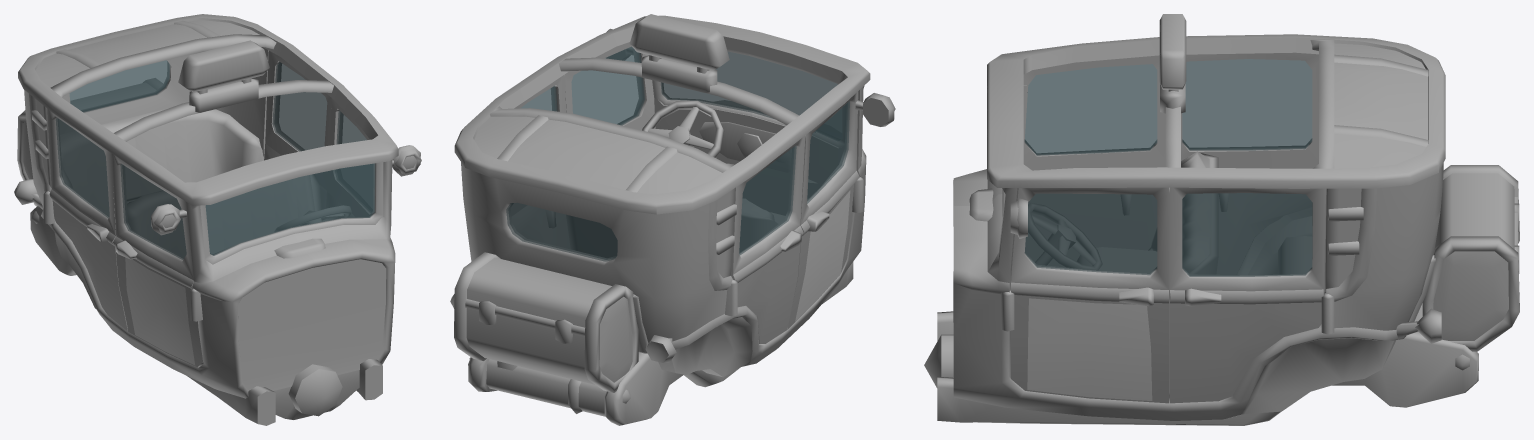
File: Body_Citro_SunRoof.fbx
3 renders of one model, left to right at view 1: azimuth 30°, elevation 25°; view 2: azimuth 150°, elevation 25°; view 3: azimuth 270°, elevation 25°, orthographic. The views are drawn at different scales.
Visible parts, largest first — view 1: Body_Citro_SunRoof_Mesh, Body_Citro_SunRoof_Window_Mesh, Citro_Door_Right_Back_Mesh, Citro_Door_Right_Mesh, Top_Taxi_Sign_Mesh, Citro_Door_Right_Decal_Mesh, Citro_Door_Right_Back_Window_Mesh, Citro_Door_Left_Back_Window_Mesh, Citro_Door_Right_Window_Mesh, Citro_Door_Left_Back_Mesh, Citro_Door_Left_Mesh, Box_Rear_Dark_Mesh (+2 smaller); view 2: Body_Citro_SunRoof_Mesh, Box_Rear_Dark_Mesh, Body_Citro_SunRoof_Window_Mesh, Citro_Door_Right_Back_Mesh, Top_Taxi_Sign_Mesh, Citro_Door_Right_Mesh, Citro_Door_Right_Back_Window_Mesh, Citro_Door_Left_Window_Mesh, Citro_Door_Right_Decal_Mesh, Citro_Door_Right_Window_Mesh, Citro_Door_Left_Back_Mesh, Body_SteerWheel_Mesh (+2 smaller); view 3: Body_Citro_SunRoof_Mesh, Citro_Door_Left_Back_Mesh, Box_Rear_Dark_Mesh, Citro_Door_Left_Mesh, Citro_Door_Left_Decal_Mesh, Citro_Door_Right_Back_Window_Mesh, Citro_Door_Right_Window_Mesh, Citro_Door_Left_Back_Window_Mesh, Citro_Door_Left_Window_Mesh, Citro_Door_Right_Mesh, Citro_Door_Right_Back_Mesh, Body_SteerWheel_Mesh (+1 smaller).
Boxes of the visible parts, x1=… form: Body_Citro_SunRoof_Mesh: x1=14, y1=14, x2=398, y2=425; Body_Citro_SunRoof_Window_Mesh: x1=69, y1=60, x2=375, y2=255; Citro_Door_Right_Back_Mesh: x1=47, y1=108, x2=127, y2=331; Citro_Door_Right_Mesh: x1=111, y1=153, x2=203, y2=367; Top_Taxi_Sign_Mesh: x1=178, y1=40, x2=269, y2=112; Citro_Door_Right_Decal_Mesh: x1=125, y1=257, x2=195, y2=365; Citro_Door_Right_Back_Window_Mesh: x1=56, y1=118, x2=109, y2=218; Citro_Door_Left_Back_Window_Mesh: x1=272, y1=62, x2=327, y2=151; Citro_Door_Right_Window_Mesh: x1=120, y1=164, x2=186, y2=259; Citro_Door_Left_Back_Mesh: x1=264, y1=51, x2=331, y2=219; Citro_Door_Left_Mesh: x1=326, y1=98, x2=421, y2=217; Box_Rear_Dark_Mesh: x1=17, y1=78, x2=162, y2=206; Body_Citro_SunRoof_Mesh: x1=450, y1=15, x2=870, y2=425; Box_Rear_Dark_Mesh: x1=454, y1=252, x2=638, y2=392; Body_Citro_SunRoof_Window_Mesh: x1=506, y1=51, x2=841, y2=261; Citro_Door_Right_Back_Mesh: x1=731, y1=136, x2=805, y2=343; Top_Taxi_Sign_Mesh: x1=629, y1=14, x2=729, y2=92; Citro_Door_Right_Mesh: x1=787, y1=91, x2=895, y2=329; Citro_Door_Right_Back_Window_Mesh: x1=739, y1=145, x2=796, y2=254; Citro_Door_Left_Window_Mesh: x1=571, y1=46, x2=644, y2=125; Citro_Door_Right_Decal_Mesh: x1=795, y1=190, x2=850, y2=321; Citro_Door_Right_Window_Mesh: x1=807, y1=101, x2=849, y2=203; Citro_Door_Left_Back_Mesh: x1=511, y1=74, x2=570, y2=248; Body_SteerWheel_Mesh: x1=642, y1=101, x2=724, y2=157; Body_Citro_SunRoof_Mesh: x1=924, y1=34, x2=1478, y2=425; Citro_Door_Left_Back_Mesh: x1=1169, y1=187, x2=1326, y2=403; Box_Rear_Dark_Mesh: x1=1422, y1=165, x2=1519, y2=351; Citro_Door_Left_Mesh: x1=1009, y1=187, x2=1169, y2=403; Citro_Door_Left_Decal_Mesh: x1=1027, y1=298, x2=1152, y2=400; Citro_Door_Right_Back_Window_Mesh: x1=1182, y1=59, x2=1312, y2=150; Citro_Door_Right_Window_Mesh: x1=1024, y1=64, x2=1157, y2=155; Citro_Door_Left_Back_Window_Mesh: x1=1182, y1=193, x2=1312, y2=276; Citro_Door_Left_Window_Mesh: x1=1024, y1=193, x2=1157, y2=275; Citro_Door_Right_Mesh: x1=1023, y1=55, x2=1165, y2=266; Citro_Door_Right_Back_Mesh: x1=1181, y1=52, x2=1318, y2=274; Body_SteerWheel_Mesh: x1=1028, y1=203, x2=1102, y2=270.
Bounding box in the file's own units: 192 × 205 × 302.
